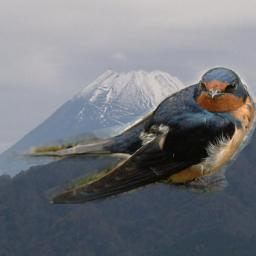Swallow: (6, 65, 256, 204)
